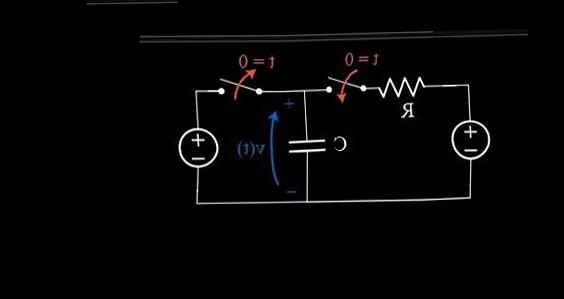Battery: (433, 109, 497, 163), (160, 121, 224, 174)
